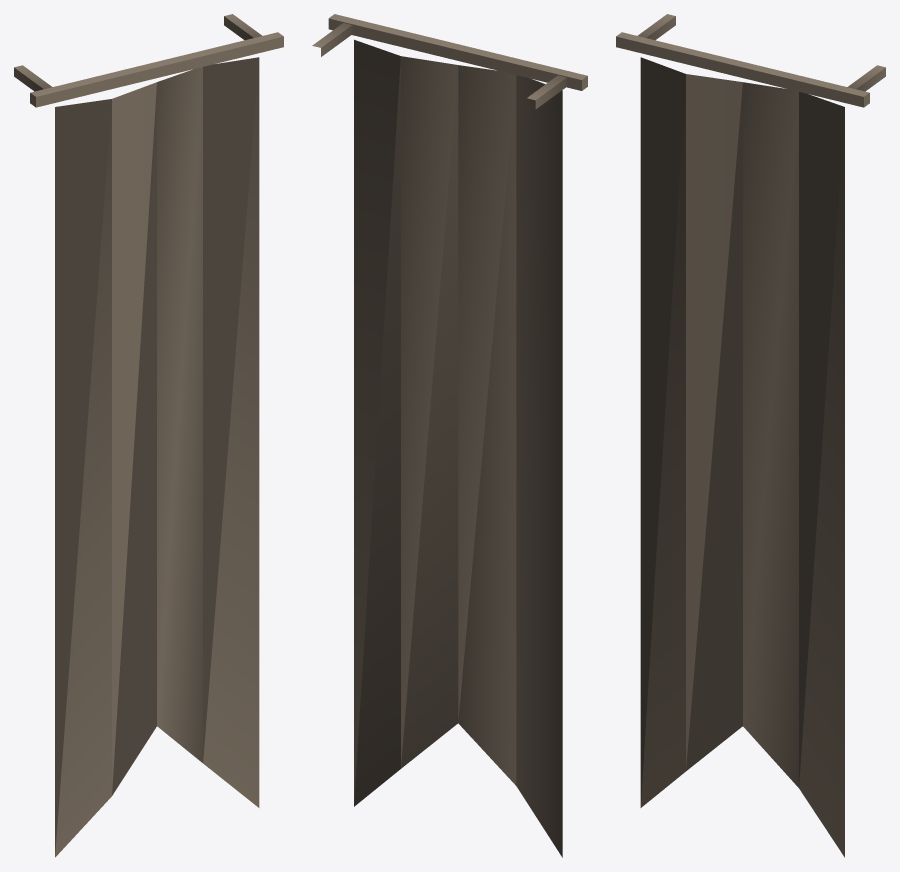
Rendered from sg_banner.glb.
3 renders of one model, left to right at view 1: azimuth 30°, elevation 25°; view 2: azimuth 150°, elevation 25°; view 3: azimuth 330°, elevation 25°, orthographic. The views are drawn at different scales.
Visible parts, largest first — view 1: sg_banner_SG_Joinery; view 2: sg_banner_SG_Joinery; view 3: sg_banner_SG_Joinery.
Boxes of the visible parts, box(x1,y1,x2,y2) form: sg_banner_SG_Joinery: box(14, 14, 283, 857); sg_banner_SG_Joinery: box(312, 14, 587, 857); sg_banner_SG_Joinery: box(616, 14, 885, 857).
Size of the model in its own units: 1.7 by 5.04 by 0.47.
